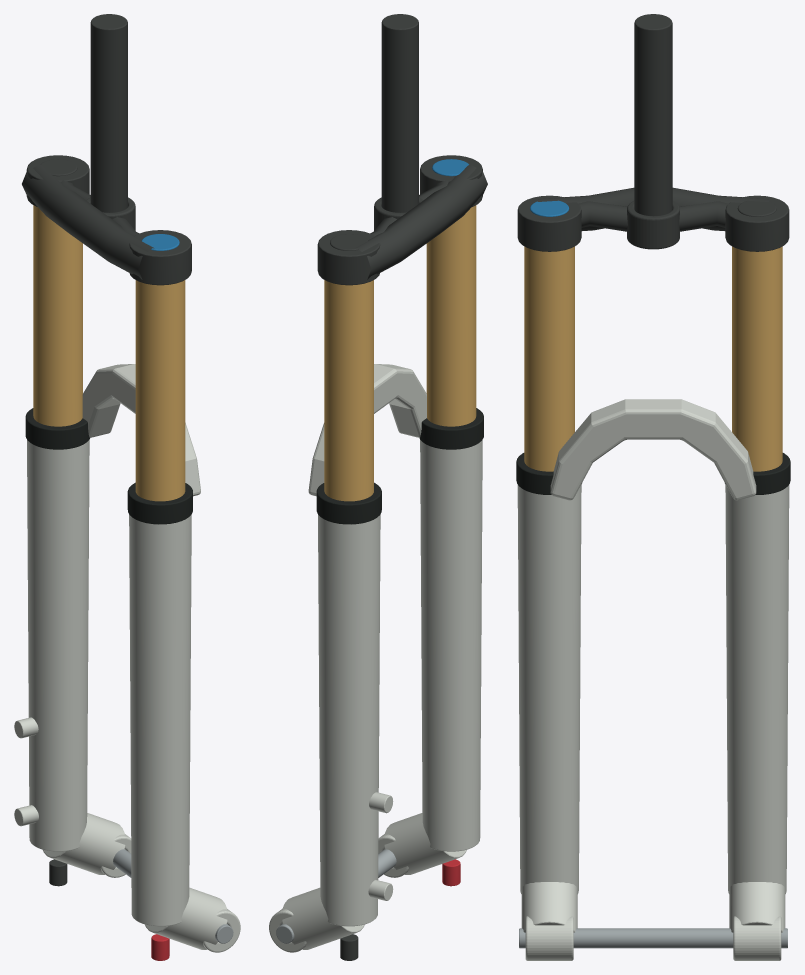
The model's file is fox-38-factory-my27--962a5e74.glb.
The picture shows the model from 3 angles, left to right: view 1: azimuth 30°, elevation 25°; view 2: azimuth 150°, elevation 25°; view 3: azimuth 270°, elevation 25°; orthographic projection.
Visible parts, largest first — view 1: fox-38-factory-my27--962a5e74__frame, fox-38-factory-my27--962a5e74__stanchions, fox-38-factory-my27--962a5e74__link, fox-38-factory-my27--962a5e74__protection, fox-38-factory-my27--962a5e74__bolts, fox-38-factory-my27--962a5e74__adjuster; view 2: fox-38-factory-my27--962a5e74__frame, fox-38-factory-my27--962a5e74__stanchions, fox-38-factory-my27--962a5e74__link, fox-38-factory-my27--962a5e74__protection, fox-38-factory-my27--962a5e74__bolts, fox-38-factory-my27--962a5e74__adjuster; view 3: fox-38-factory-my27--962a5e74__frame, fox-38-factory-my27--962a5e74__stanchions, fox-38-factory-my27--962a5e74__link, fox-38-factory-my27--962a5e74__bolts, fox-38-factory-my27--962a5e74__protection.
Part boxes in pixels (box(x1,y1,x2,y2)): fox-38-factory-my27--962a5e74__frame: box(14, 364, 240, 952); fox-38-factory-my27--962a5e74__stanchions: box(33, 205, 185, 501); fox-38-factory-my27--962a5e74__link: box(22, 14, 191, 886); fox-38-factory-my27--962a5e74__protection: box(25, 408, 192, 524); fox-38-factory-my27--962a5e74__bolts: box(113, 849, 233, 943); fox-38-factory-my27--962a5e74__adjuster: box(141, 234, 179, 250); fox-38-factory-my27--962a5e74__frame: box(269, 364, 482, 952); fox-38-factory-my27--962a5e74__stanchions: box(324, 205, 476, 501); fox-38-factory-my27--962a5e74__link: box(317, 14, 487, 960); fox-38-factory-my27--962a5e74__protection: box(316, 408, 483, 524); fox-38-factory-my27--962a5e74__bolts: box(276, 849, 396, 943); fox-38-factory-my27--962a5e74__adjuster: box(432, 159, 468, 176); fox-38-factory-my27--962a5e74__frame: box(517, 399, 789, 960); fox-38-factory-my27--962a5e74__stanchions: box(524, 246, 782, 471); fox-38-factory-my27--962a5e74__link: box(517, 14, 789, 251); fox-38-factory-my27--962a5e74__bolts: box(519, 928, 787, 948); fox-38-factory-my27--962a5e74__protection: box(516, 453, 790, 494).
Bounding box in the file's own units: 0.1 × 0.757 × 0.206.
